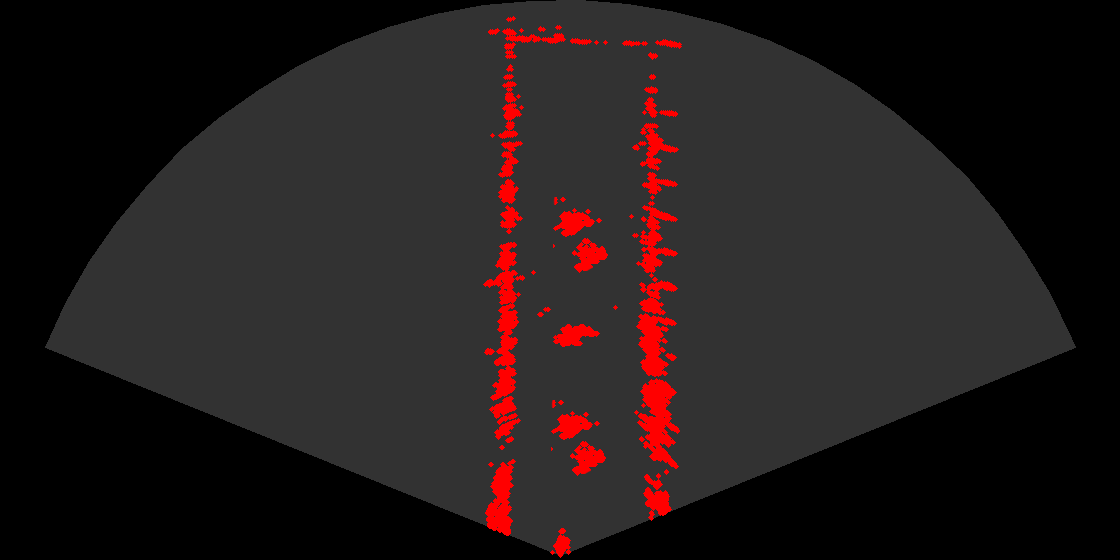AUV: (547, 322, 603, 354)
cage: (551, 400, 614, 484), (553, 197, 616, 281)
